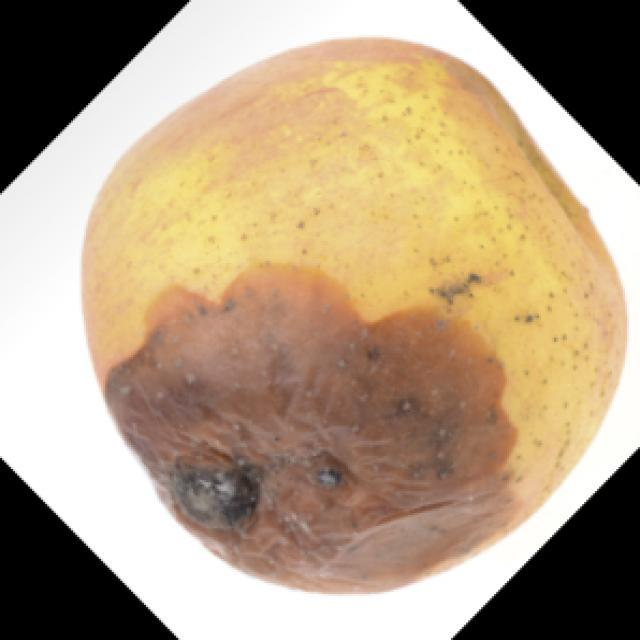Rotten: (73, 35, 628, 591)
